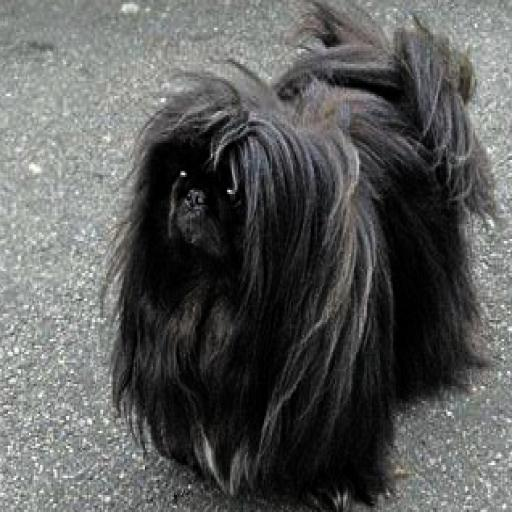dog_face: (124, 100, 332, 294)
